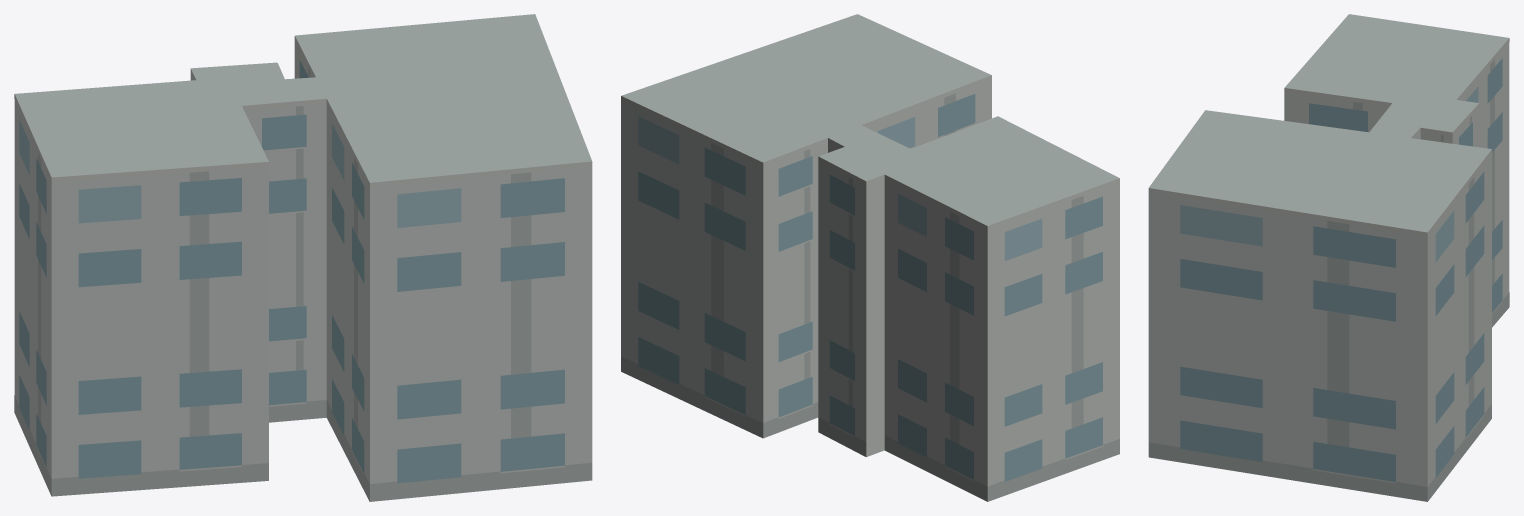
Rendered from survey-upis-32522607.glb.
The picture shows the model from 3 angles, left to right: view 1: azimuth 30°, elevation 25°; view 2: azimuth 150°, elevation 25°; view 3: azimuth 270°, elevation 25°; orthographic projection. The views are drawn at different scales.
Parts seen in each view (by area): view 1: survey-upis-32522607.tmp; view 2: survey-upis-32522607.tmp; view 3: survey-upis-32522607.tmp.
Part boxes in pixels (x1=…): survey-upis-32522607.tmp: x1=14, y1=14, x2=592, y2=501; survey-upis-32522607.tmp: x1=621, y1=14, x2=1119, y2=501; survey-upis-32522607.tmp: x1=1148, y1=14, x2=1509, y2=501.
Bounding box in the file's own units: 26.54 × 15.25 × 18.52.
